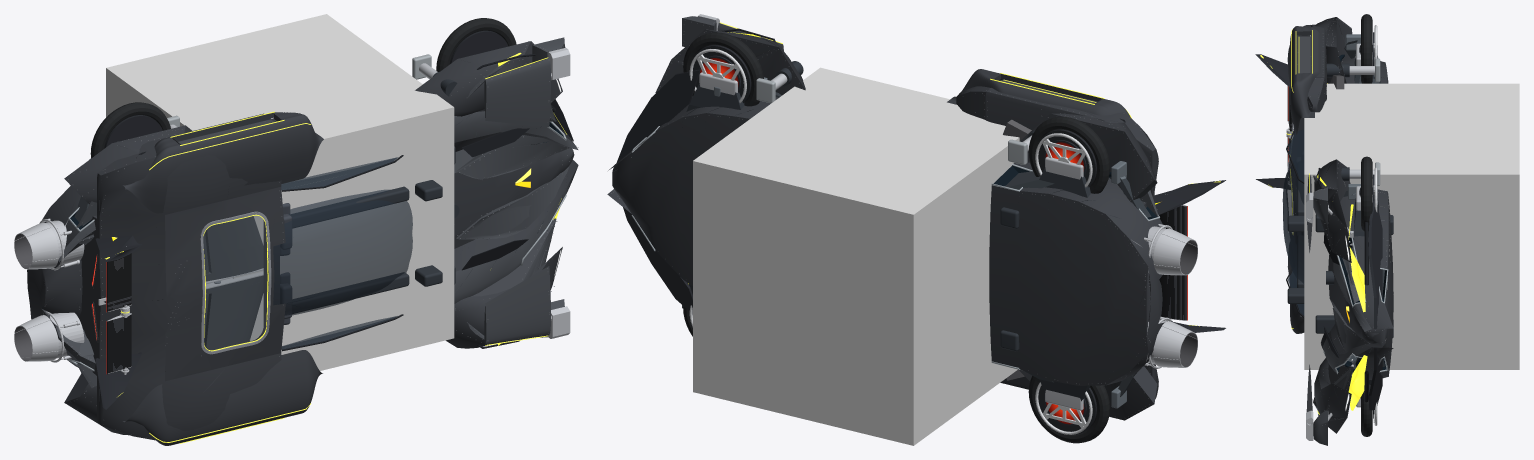
File: phantom-a10-wheels-flat.glb
The picture shows the model from 3 angles, left to right: view 1: azimuth 30°, elevation 25°; view 2: azimuth 150°, elevation 25°; view 3: azimuth 270°, elevation 25°; orthographic projection. The views are drawn at different scales.
Visible parts, largest first — view 1: PHANTOM_A8_INTEGRATED_DUCTED_FACETED_CFRP_HULL, Cube, VTX_VISUAL_WING_CASSETTE_COWLS, A10_SLEEVE_CARRY_THROUGH_BOX, A10_CANARD_L_ALL_MOVING_BLADE, A10_CANARD_R_ALL_MOVING_BLADE, PHANTOM_FRONT_RIGHT_WIDEBODY_ANGULAR_FENDER, A10_WING_L_PANEL_CFRP_TORSION_BOX, A10_WING_R_PANEL_CFRP_TORSION_BOX, PHANTOM_LEFT_SPEAR_BONNET_RIDGE, VTX_VISUAL_DRS_CARBON_BLADES, PHANTOM_RIGHT_SPEAR_BONNET_RIDGE (+22 smaller); view 2: Cube, PHANTOM_A8_INTEGRATED_DUCTED_FACETED_CFRP_HULL, PHANTOM_REAR_RIGHT_WIDEBODY_ANGULAR_FENDER, VTX_VISUAL_WING_CASSETTE_COWLS, PHANTOM_RIGHT_RAPTOR_NOSE_SPLITTER, PHANTOM_FRONT_RIGHT_WIDEBODY_ANGULAR_FENDER, WHEEL_RR_CLOSED_TYRE, VTX_VISUAL_DRS_CARBON_BLADES, WHEEL_FR_CLOSED_TYRE, PHANTOM_REAR_LEFT_WIDEBODY_ANGULAR_FENDER, WHEEL_RL_CLOSED_TYRE, PHANTOM_LEFT_RAPTOR_NOSE_SPLITTER (+7 smaller); view 3: Cube, PHANTOM_A8_INTEGRATED_DUCTED_FACETED_CFRP_HULL, VTX_VISUAL_WING_CASSETTE_COWLS, PHANTOM_FRONT_RIGHT_WIDEBODY_ANGULAR_FENDER, PHANTOM_FRONT_LEFT_WIDEBODY_ANGULAR_FENDER, PHANTOM_RIGHT_RAPTOR_NOSE_SPLITTER, PHANTOM_REAR_RIGHT_WIDEBODY_ANGULAR_FENDER, WHEEL_FR_CLOSED_TYRE, WHEEL_RR_CLOSED_TYRE, PHANTOM_LEFT_SPEAR_BONNET_RIDGE, PHANTOM_RIGHT_TRIANGULAR_COUPÉ_SIDEGLASS, PHANTOM_LEFT_NARROW_AMBER_BROW (+15 smaller).
Part boxes in pixels (x1,y1,x2,y2): PHANTOM_A8_INTEGRATED_DUCTED_FACETED_CFRP_HULL: (27,111,578,440); Cube: (106,14,454,370); VTX_VISUAL_WING_CASSETTE_COWLS: (123,112,323,445); A10_SLEEVE_CARRY_THROUGH_BOX: (204,216,262,349); A10_CANARD_L_ALL_MOVING_BLADE: (484,266,550,344); A10_CANARD_R_ALL_MOVING_BLADE: (484,58,550,126); PHANTOM_FRONT_RIGHT_WIDEBODY_ANGULAR_FENDER: (415,41,562,116); A10_WING_L_PANEL_CFRP_TORSION_BOX: (204,275,263,350); A10_WING_R_PANEL_CFRP_TORSION_BOX: (205,216,263,281); PHANTOM_LEFT_SPEAR_BONNET_RIDGE: (456,166,569,239); VTX_VISUAL_DRS_CARBON_BLADES: (106,253,131,374); PHANTOM_RIGHT_SPEAR_BONNET_RIDGE: (456,135,568,179); Cube: (693,67,1019,445); PHANTOM_A8_INTEGRATED_DUCTED_FACETED_CFRP_HULL: (607,79,1172,398); PHANTOM_REAR_RIGHT_WIDEBODY_ANGULAR_FENDER: (1020,113,1157,202); VTX_VISUAL_WING_CASSETTE_COWLS: (947,69,1130,120); PHANTOM_RIGHT_RAPTOR_NOSE_SPLITTER: (616,69,700,162); PHANTOM_FRONT_RIGHT_WIDEBODY_ANGULAR_FENDER: (655,29,805,95); WHEEL_RR_CLOSED_TYRE: (1028,116,1109,193); VTX_VISUAL_DRS_CARBON_BLADES: (1159,205,1187,320); WHEEL_FR_CLOSED_TYRE: (683,32,763,111); PHANTOM_REAR_LEFT_WIDEBODY_ANGULAR_FENDER: (1019,366,1157,420); WHEEL_RL_CLOSED_TYRE: (1028,375,1109,443); PHANTOM_LEFT_RAPTOR_NOSE_SPLITTER: (623,207,692,313); Cube: (1304,83,1519,369); PHANTOM_A8_INTEGRATED_DUCTED_FACETED_CFRP_HULL: (1282,24,1393,379); VTX_VISUAL_WING_CASSETTE_COWLS: (1290,26,1320,333); PHANTOM_FRONT_RIGHT_WIDEBODY_ANGULAR_FENDER: (1314,159,1351,262); PHANTOM_FRONT_LEFT_WIDEBODY_ANGULAR_FENDER: (1314,354,1351,433); PHANTOM_RIGHT_RAPTOR_NOSE_SPLITTER: (1368,199,1382,328); PHANTOM_REAR_RIGHT_WIDEBODY_ANGULAR_FENDER: (1314,17,1354,83); WHEEL_FR_CLOSED_TYRE: (1361,156,1372,231); WHEEL_RR_CLOSED_TYRE: (1361,14,1372,83); PHANTOM_LEFT_SPEAR_BONNET_RIDGE: (1333,306,1370,354); PHANTOM_RIGHT_TRIANGULAR_COUPÉ_SIDEGLASS: (1288,130,1304,181); PHANTOM_LEFT_NARROW_AMBER_BROW: (1348,355,1367,410).
Bounding box in the file's own units: 5.09 × 2.8 × 2.46.
45 materials, 5 textured.
